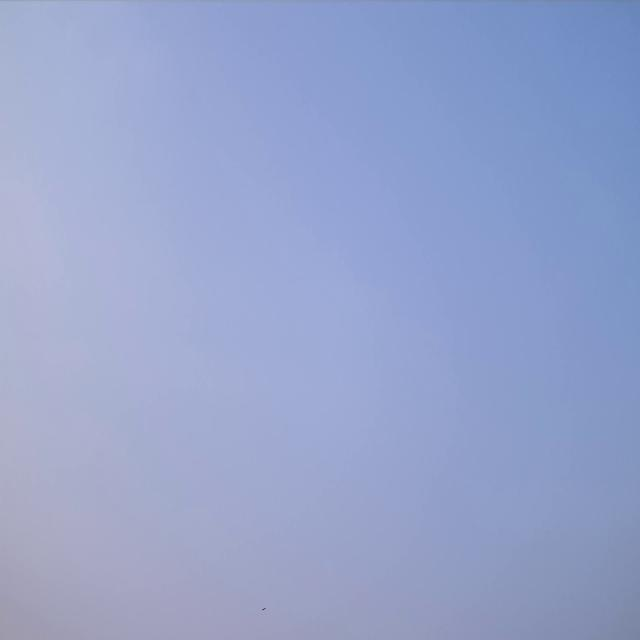UAV: (262, 607, 266, 611)
